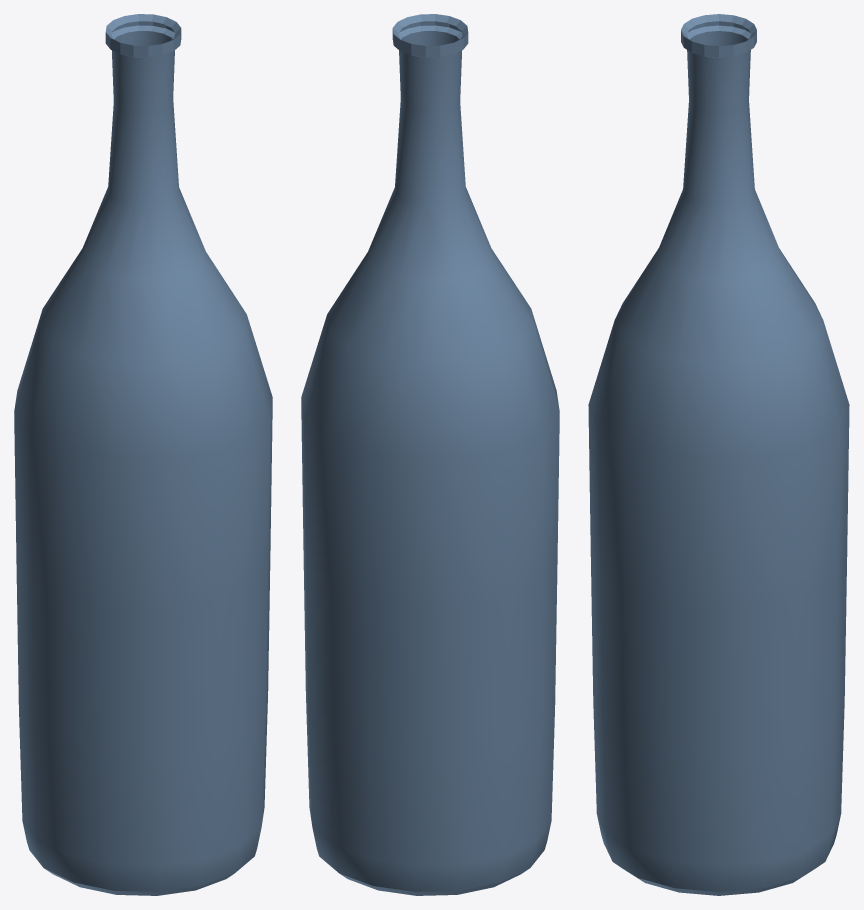
The model's file is bottle 1.fbx.
3 renders of one model, left to right at view 1: azimuth 30°, elevation 25°; view 2: azimuth 150°, elevation 25°; view 3: azimuth 270°, elevation 25°, orthographic.
Parts seen in each view (by area): view 1: sketchfab_render:BottlesBottle3; view 2: sketchfab_render:BottlesBottle3; view 3: sketchfab_render:BottlesBottle3.
Part boxes in pixels (x1,y1,x2,y2): sketchfab_render:BottlesBottle3: (14, 14, 272, 895); sketchfab_render:BottlesBottle3: (301, 14, 559, 895); sketchfab_render:BottlesBottle3: (588, 14, 849, 895).
Bounding box in the file's own units: 78.04 × 272 × 78.04.
